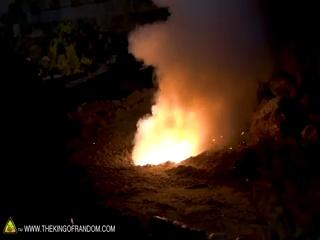Fire: (130, 106, 203, 164)
